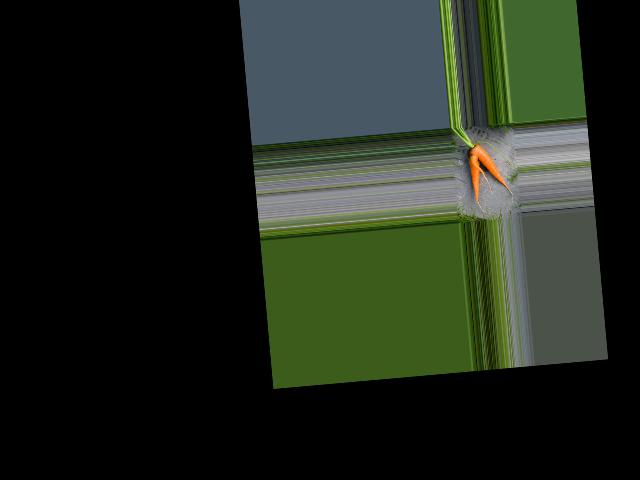carrot: (462, 150, 490, 213)
